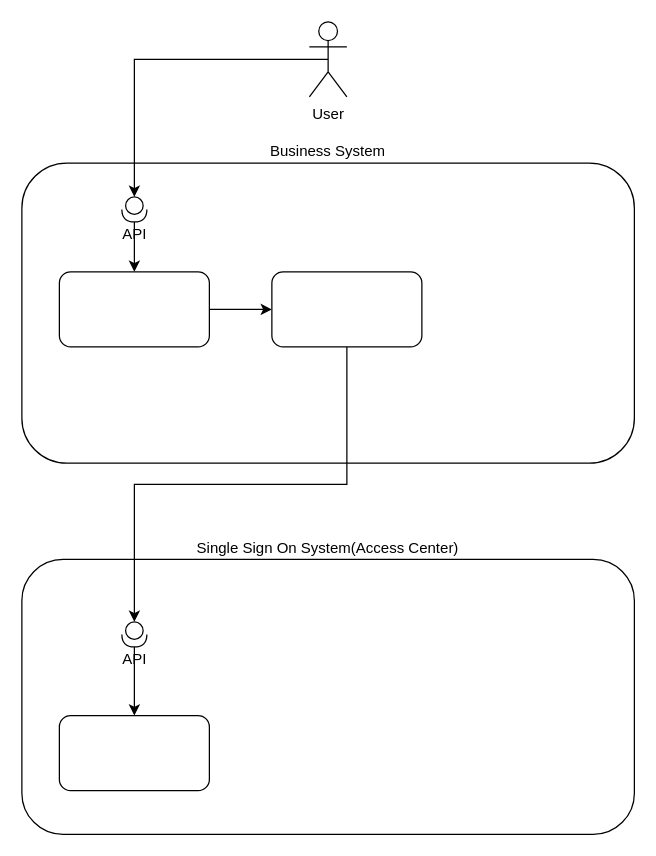
The diagram is 656 pixels wide and 856 high, and some of its shapes have lost their labels. Each missing label, with the centre of its shape:
"Check access right based on system, action, resource and user." goes at (133,752).
"Collection access check information from annotation" goes at (346,309).
"Intecept all API with AccessCheck annotation" goes at (133,309).
